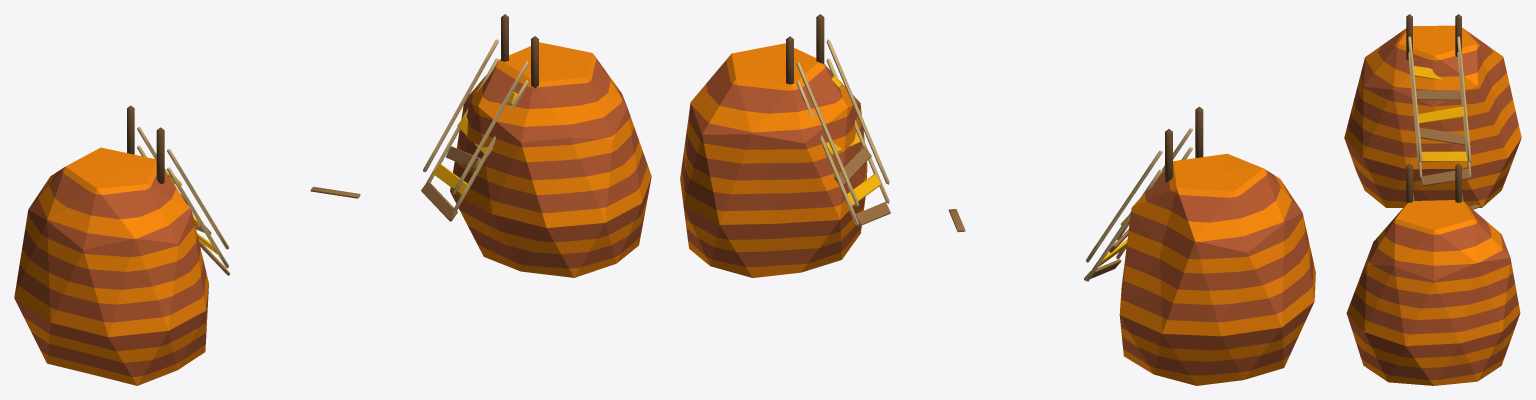
Rendered from W5_BrokenBridge.fbx.
The picture shows the model from 3 angles, left to right: view 1: azimuth 30°, elevation 25°; view 2: azimuth 150°, elevation 25°; view 3: azimuth 270°, elevation 25°; orthographic projection. The views are drawn at different scales.
Visible parts, largest first — view 1: W5_BrokenBridge; view 2: W5_BrokenBridge; view 3: W5_BrokenBridge.
Part boxes in pixels (x1,y1,x2,y2): W5_BrokenBridge: [14, 14, 651, 385]; W5_BrokenBridge: [680, 14, 1315, 385]; W5_BrokenBridge: [1344, 14, 1521, 385].
Size of the model in its own units: 30.28 by 10.74 by 9.42.
